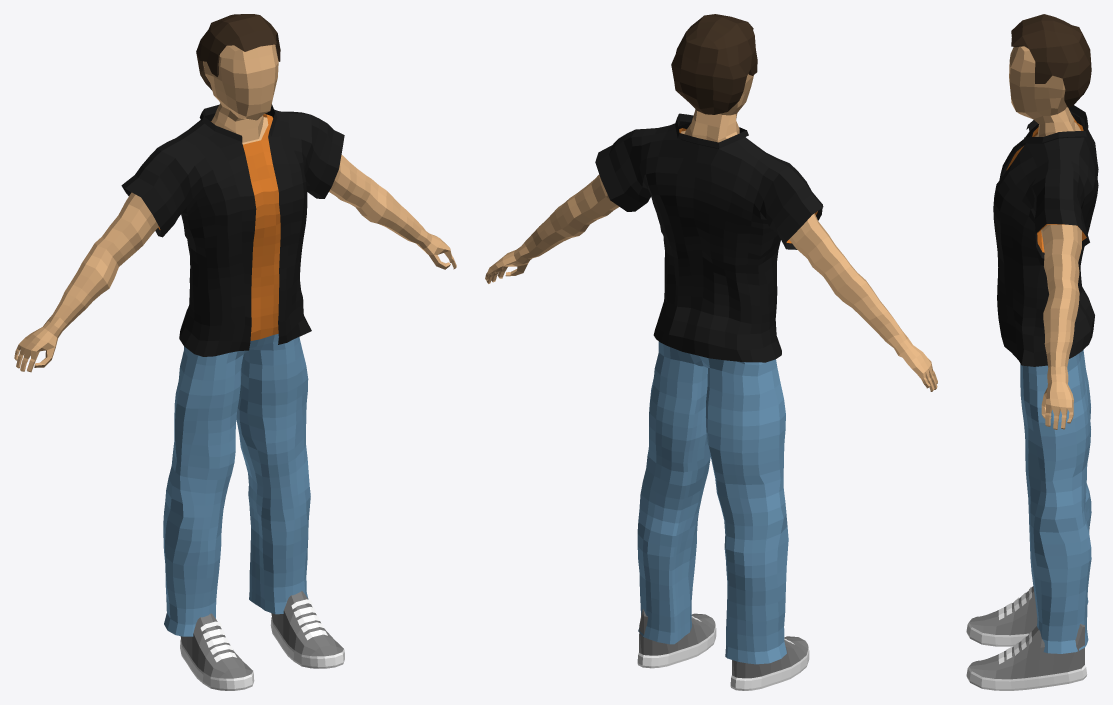
Rendered from FirstCharecter.fbx.
3 views of the same model, side by side, from view 1: azimuth 30°, elevation 25°; view 2: azimuth 150°, elevation 25°; view 3: azimuth 270°, elevation 25° (orthographic). The views are drawn at different scales.
Visible parts, largest first — view 1: trousers.001, t-shirt.003, person.002, Cube.002, t-shirt.002, person.003, Plane.007; view 2: trousers.001, t-shirt.003, person.002, person.003, Cube.002; view 3: t-shirt.003, trousers.001, person.002, Cube.002, person.003, t-shirt.002, Plane.007.
Part boxes in pixels (x1=…): trousers.001: x1=163, y1=334, x2=310, y2=636; t-shirt.003: x1=121, y1=104, x2=344, y2=356; person.002: x1=14, y1=44, x2=456, y2=372; Cube.002: x1=180, y1=591, x2=344, y2=690; t-shirt.002: x1=158, y1=114, x2=339, y2=340; person.003: x1=196, y1=14, x2=280, y2=90; Plane.007: x1=200, y1=599, x2=319, y2=647; trousers.001: x1=637, y1=341, x2=788, y2=664; t-shirt.003: x1=595, y1=113, x2=823, y2=362; person.002: x1=485, y1=74, x2=937, y2=391; person.003: x1=671, y1=14, x2=757, y2=114; Cube.002: x1=637, y1=609, x2=809, y2=690; t-shirt.003: x1=993, y1=105, x2=1098, y2=366; trousers.001: x1=1020, y1=350, x2=1091, y2=653; person.002: x1=1009, y1=46, x2=1081, y2=429; Cube.002: x1=966, y1=586, x2=1087, y2=690; person.003: x1=1011, y1=14, x2=1091, y2=107; t-shirt.002: x1=1006, y1=116, x2=1086, y2=252; Plane.007: x1=1014, y1=587, x2=1031, y2=655.
Bounding box in the file's own units: 353 × 495 × 93.05.
